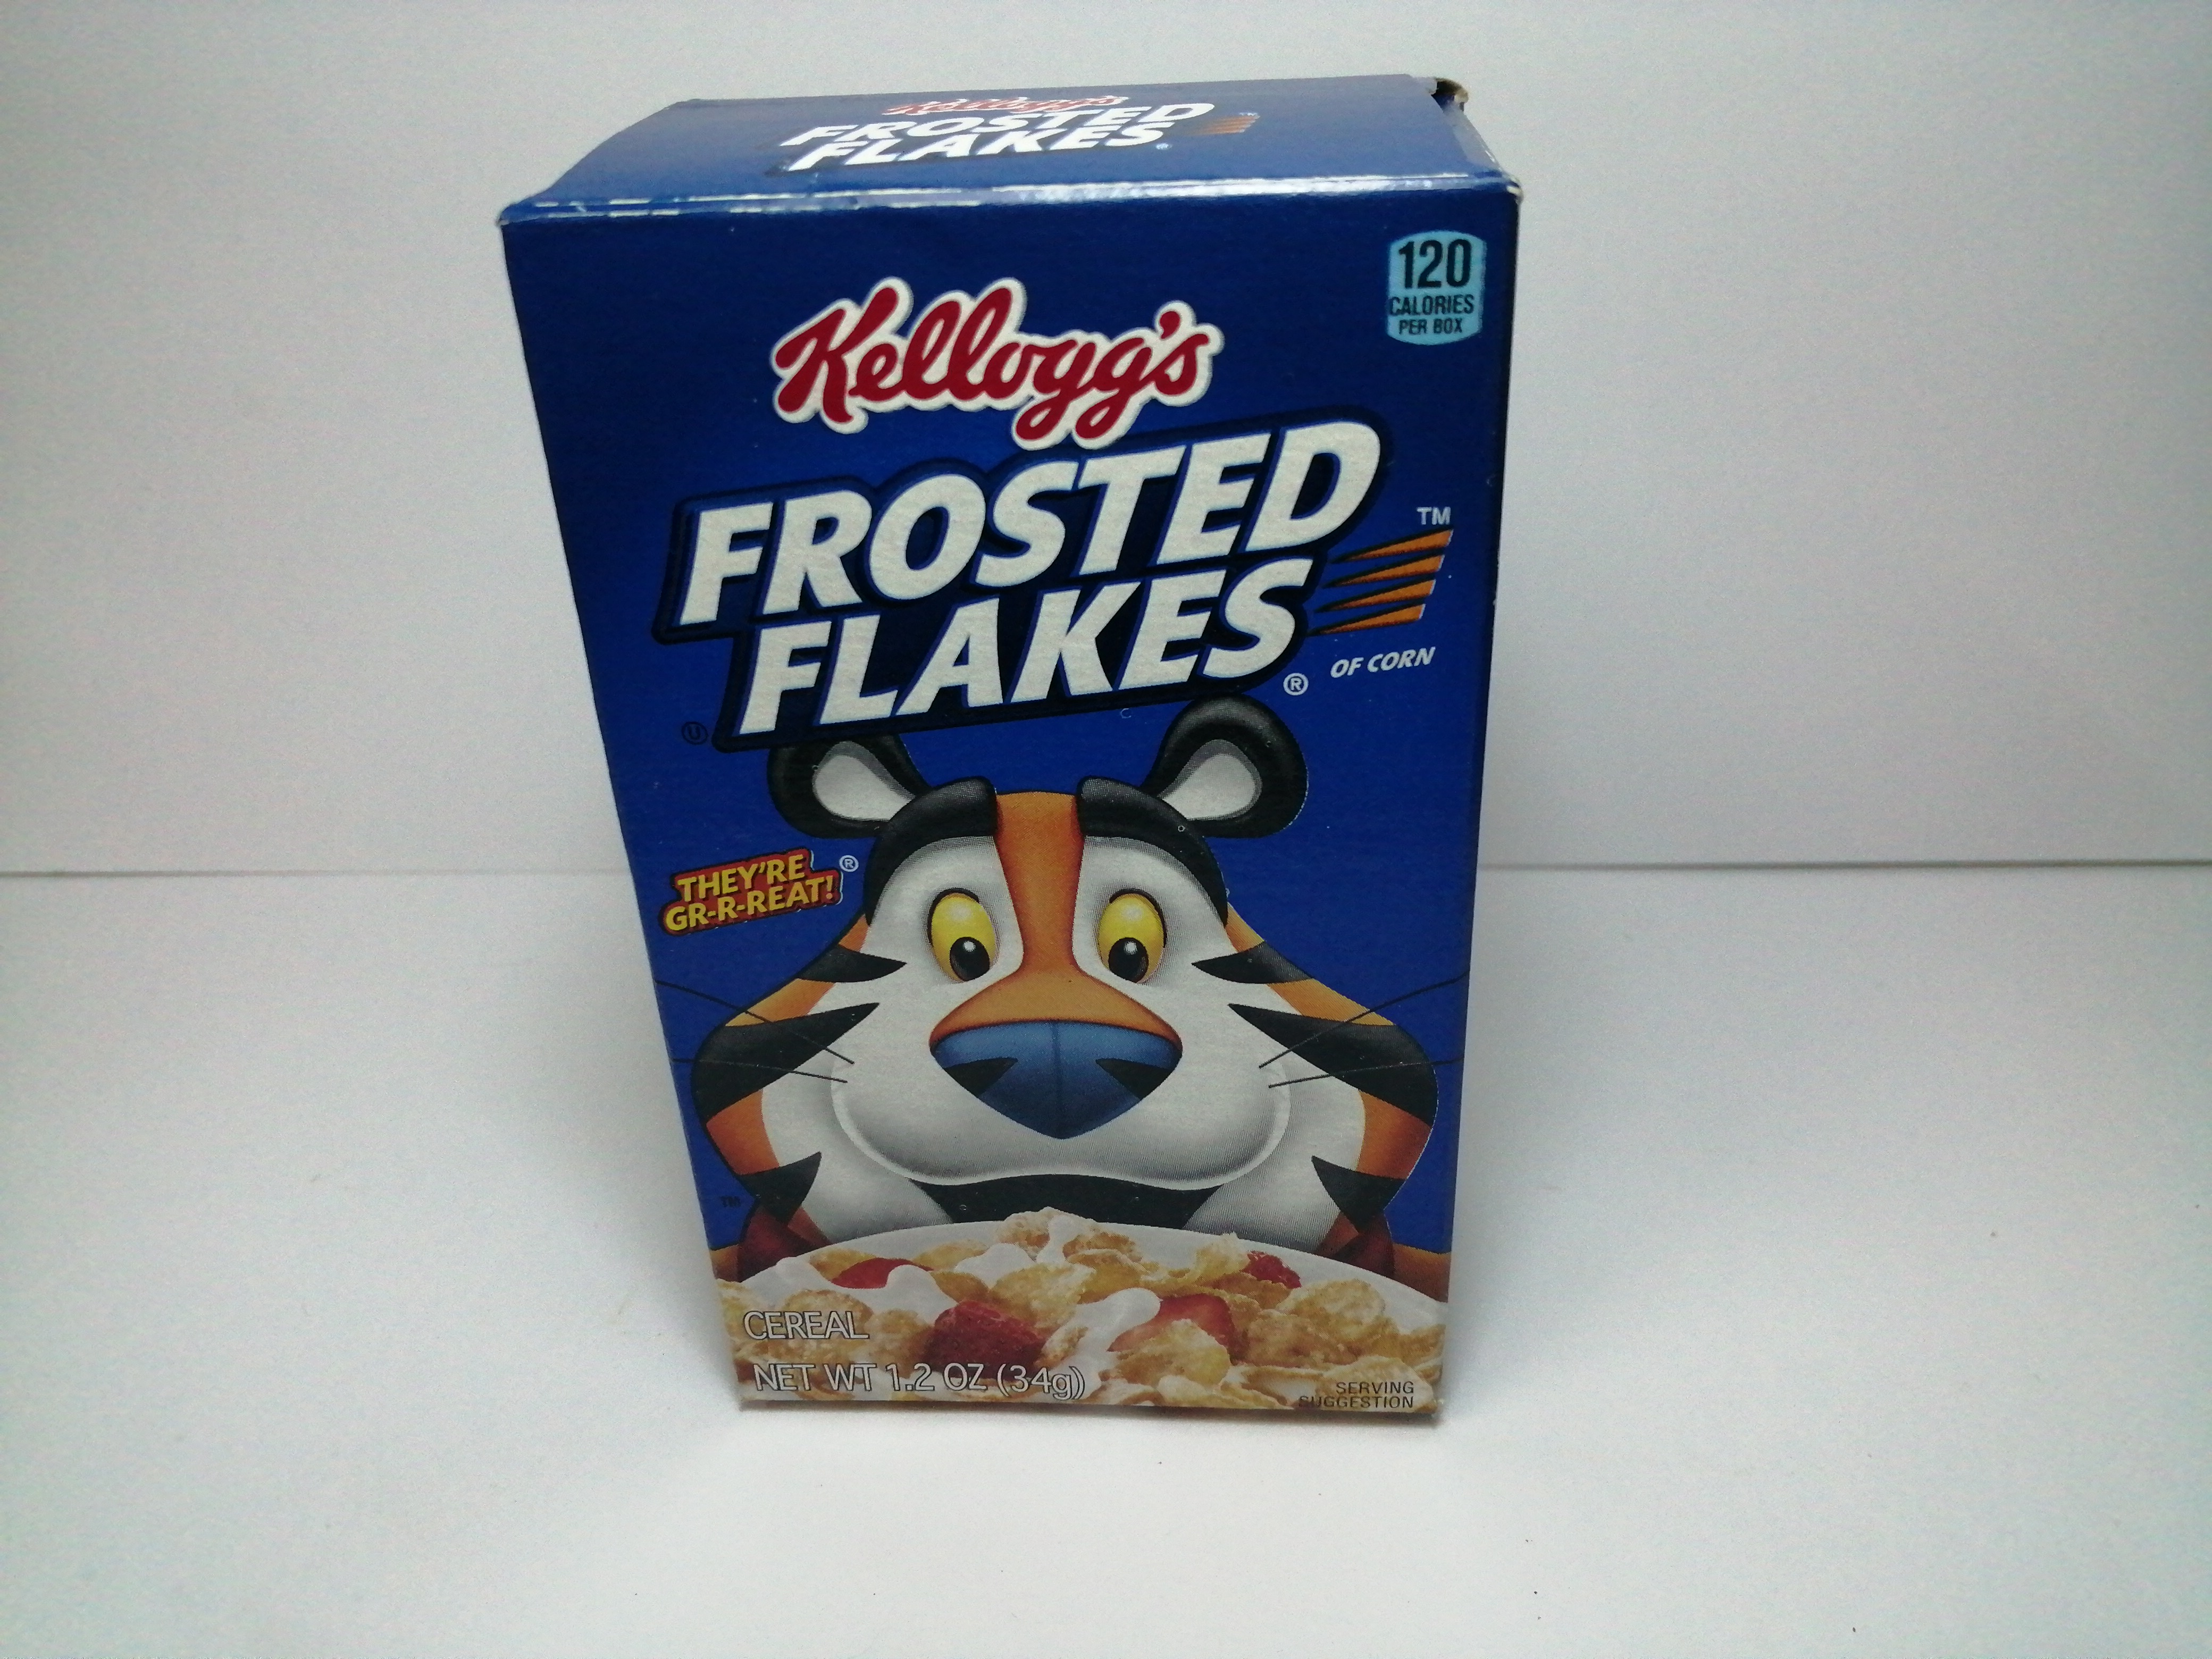cereal azucarado: (481, 52, 1688, 1453)
